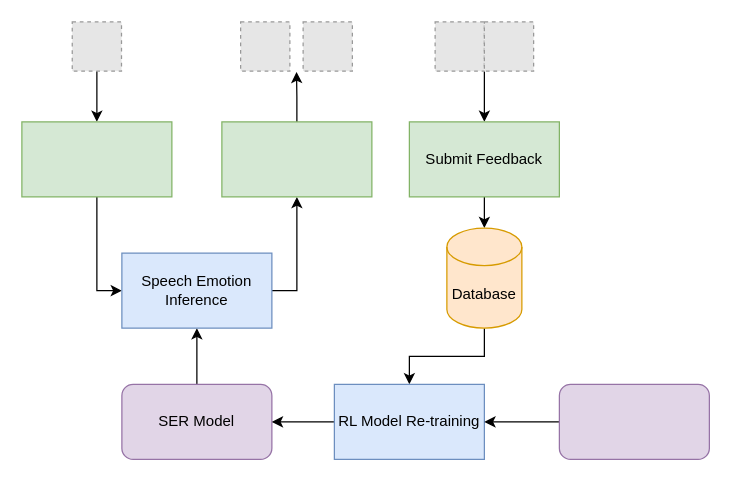
Some shapes in this 731 by 481 pixel diagram are drawn without their labels. Grey dashed boxes stand in for pictures. The centre of each missing label's shape, as x and y in pixels:
Pre-trained SER Model: pixel 633 421
Show Emotion in Web Page: pixel 296 159
Upload to Server: pixel 96 159
